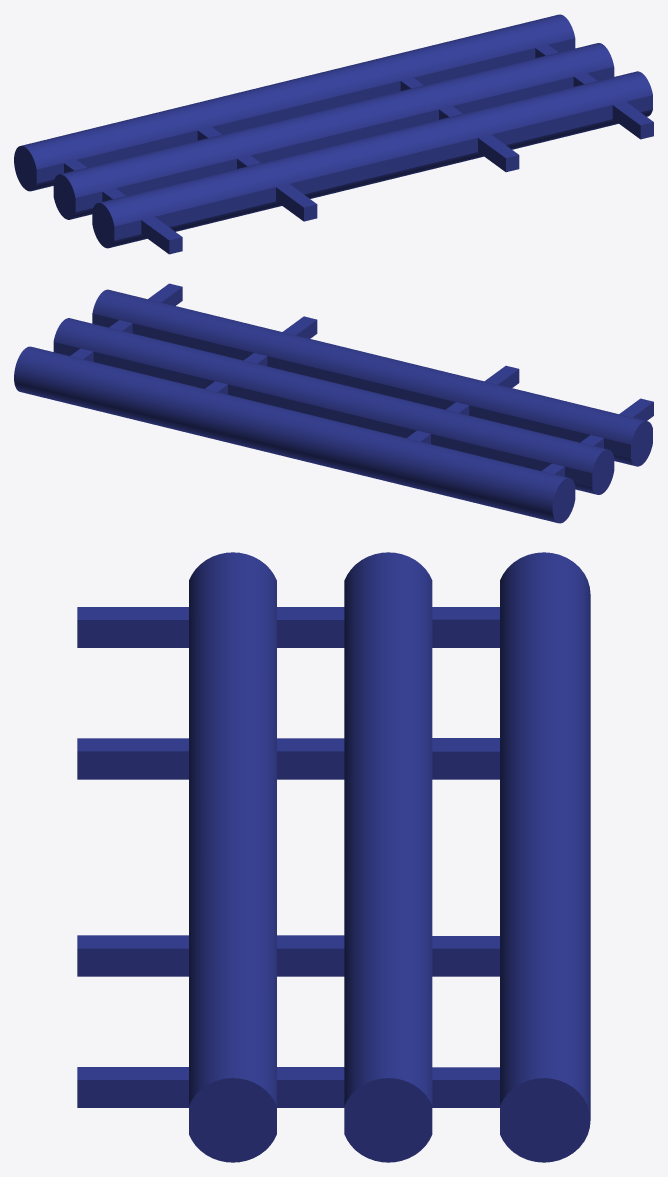
The model's file is Railing_2m(Horror_game) v6.fbx.
3 views of the same model, one above another, from view 1: azimuth 30°, elevation 25°; view 2: azimuth 150°, elevation 25°; view 3: azimuth 270°, elevation 25° (orthographic). The views are drawn at different scales.
Parts seen in each view (by area): view 1: Body1; view 2: Body1; view 3: Body1.
Boxes of the visible parts, x1,y1,x2,y2 form: Body1: (14, 14, 653, 254); Body1: (14, 283, 653, 523); Body1: (77, 552, 590, 1162).
Bounding box in the file's own units: 2000 × 150 × 825.
